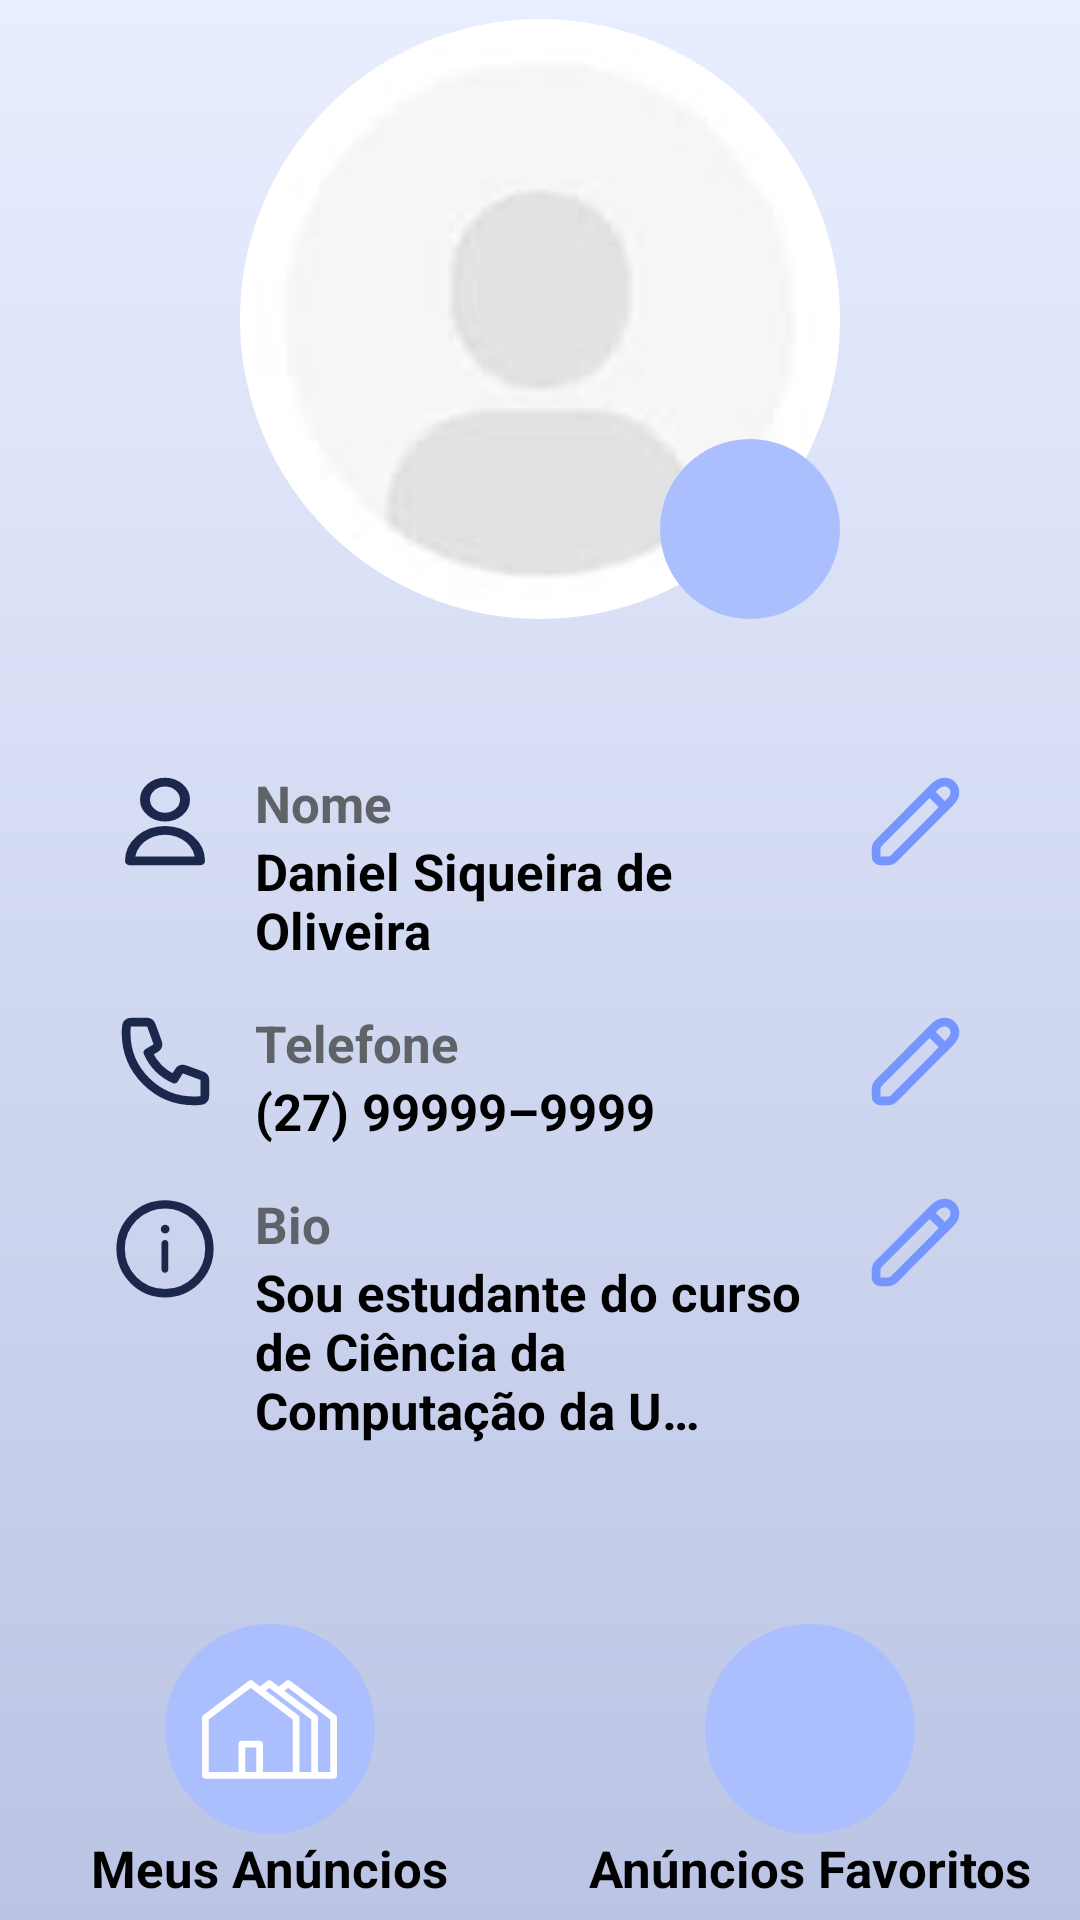

Where to tap for icons on this 1080 x 1920 app screen, as (x=x, y=y):
pencil: (x=915, y=822), (x=915, y=1062), (x=915, y=1242)
user: (x=165, y=821)
Ícone de casas: (x=269, y=1729)
Ícone de informação: (x=165, y=1249)
